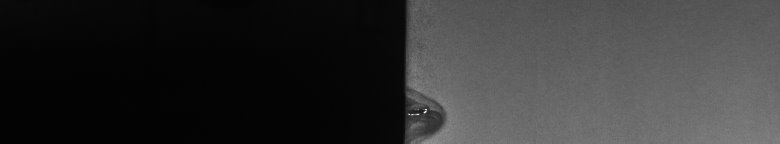hb: (416, 16, 452, 136)
